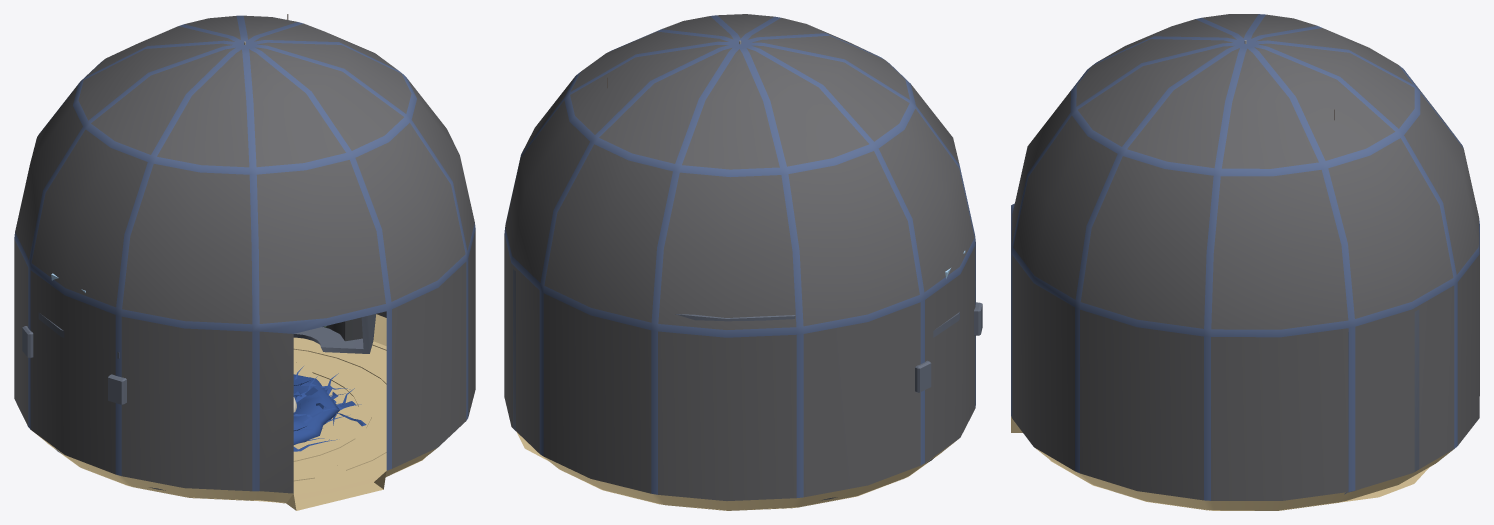
The model's file is Klax_Apartment_01.fbx.
The picture shows the model from 3 angles, left to right: view 1: azimuth 30°, elevation 25°; view 2: azimuth 150°, elevation 25°; view 3: azimuth 270°, elevation 25°; orthographic projection. The views are drawn at different scales.
Parts seen in each view (by area): view 1: Klax_Room_01_1, FloorRings1, Klax_Bed_01_1, Klax_Desk_01_2, BarSeat_01; view 2: Klax_Room_01_1, BarSeat_01, Feeder_01; view 3: Klax_Room_01_1, Klax_Desk_01_2, FloorRings1.
Part boxes in pixels (x1,y1,x2,y2): Klax_Room_01_1: (14,15,475,510); FloorRings1: (46,341,424,503); Klax_Bed_01_1: (293,366,366,451); Klax_Desk_01_2: (293,314,375,353); BarSeat_01: (22,326,126,404); Klax_Room_01_1: (504,14,975,510); BarSeat_01: (915,302,982,392); Feeder_01: (675,314,795,321); Klax_Room_01_1: (1011,14,1479,510); Klax_Desk_01_2: (1344,309,1419,494); FloorRings1: (1050,460,1439,510).
Size of the model in its own units: 2094 by 1875 by 2072.
